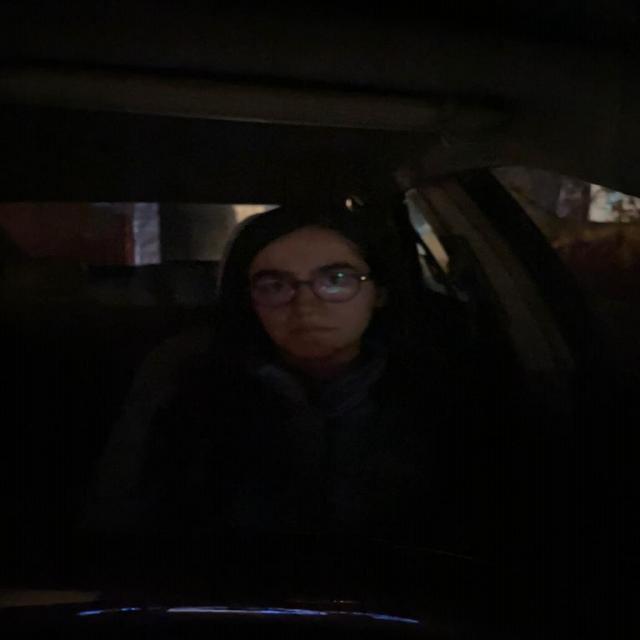person: (219, 203, 384, 370)
